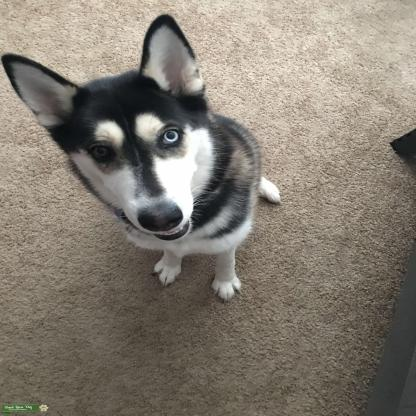dog: (3, 15, 277, 301)
